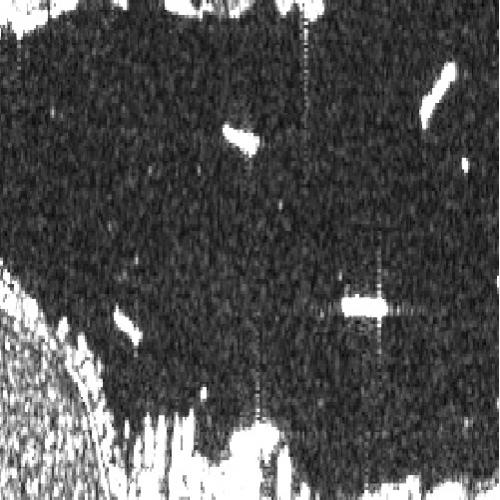ship: (418, 58, 459, 130), (221, 122, 261, 159), (113, 307, 145, 351), (340, 294, 391, 321), (181, 405, 198, 478), (153, 413, 167, 481), (169, 410, 182, 480), (142, 410, 155, 472), (131, 434, 144, 476)
